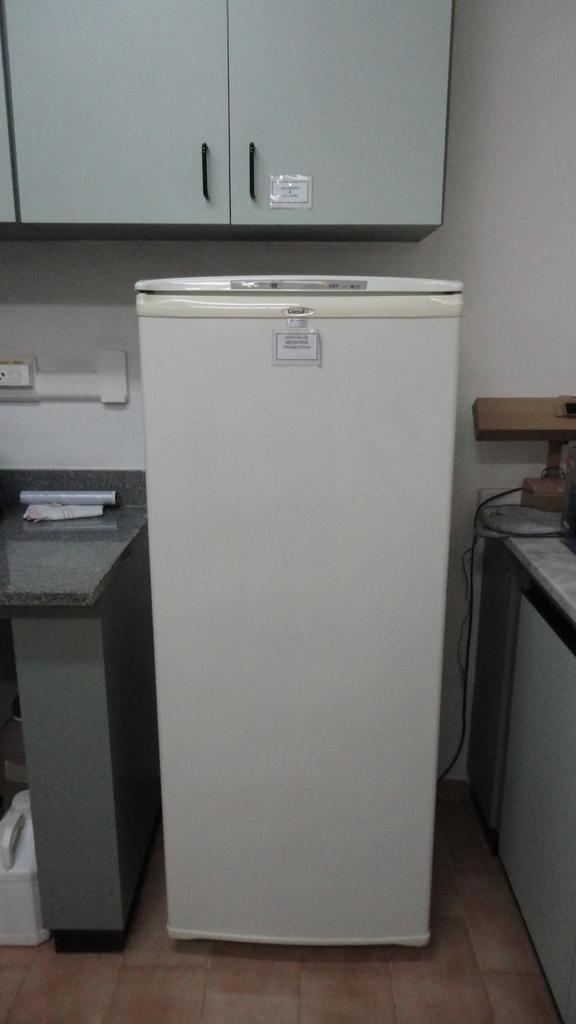cabinet_door: (228, 8, 440, 220), (11, 13, 230, 209)
handle: (197, 130, 214, 210), (244, 126, 258, 204)
